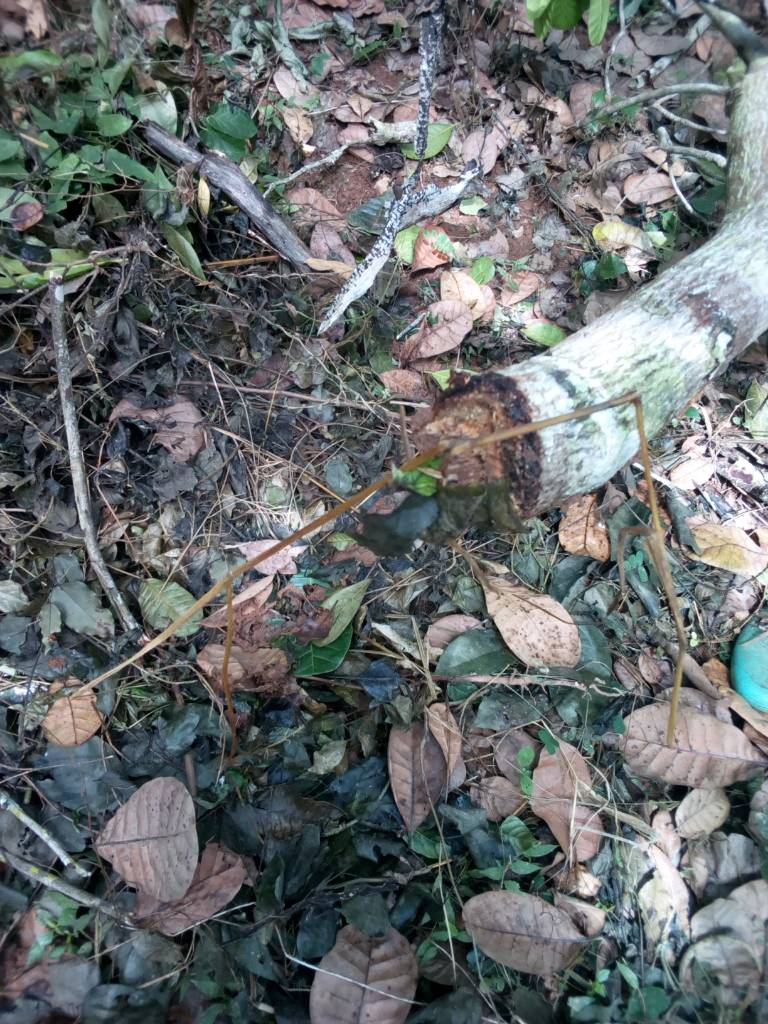Analepse trifasciata: (385, 374, 588, 538)
